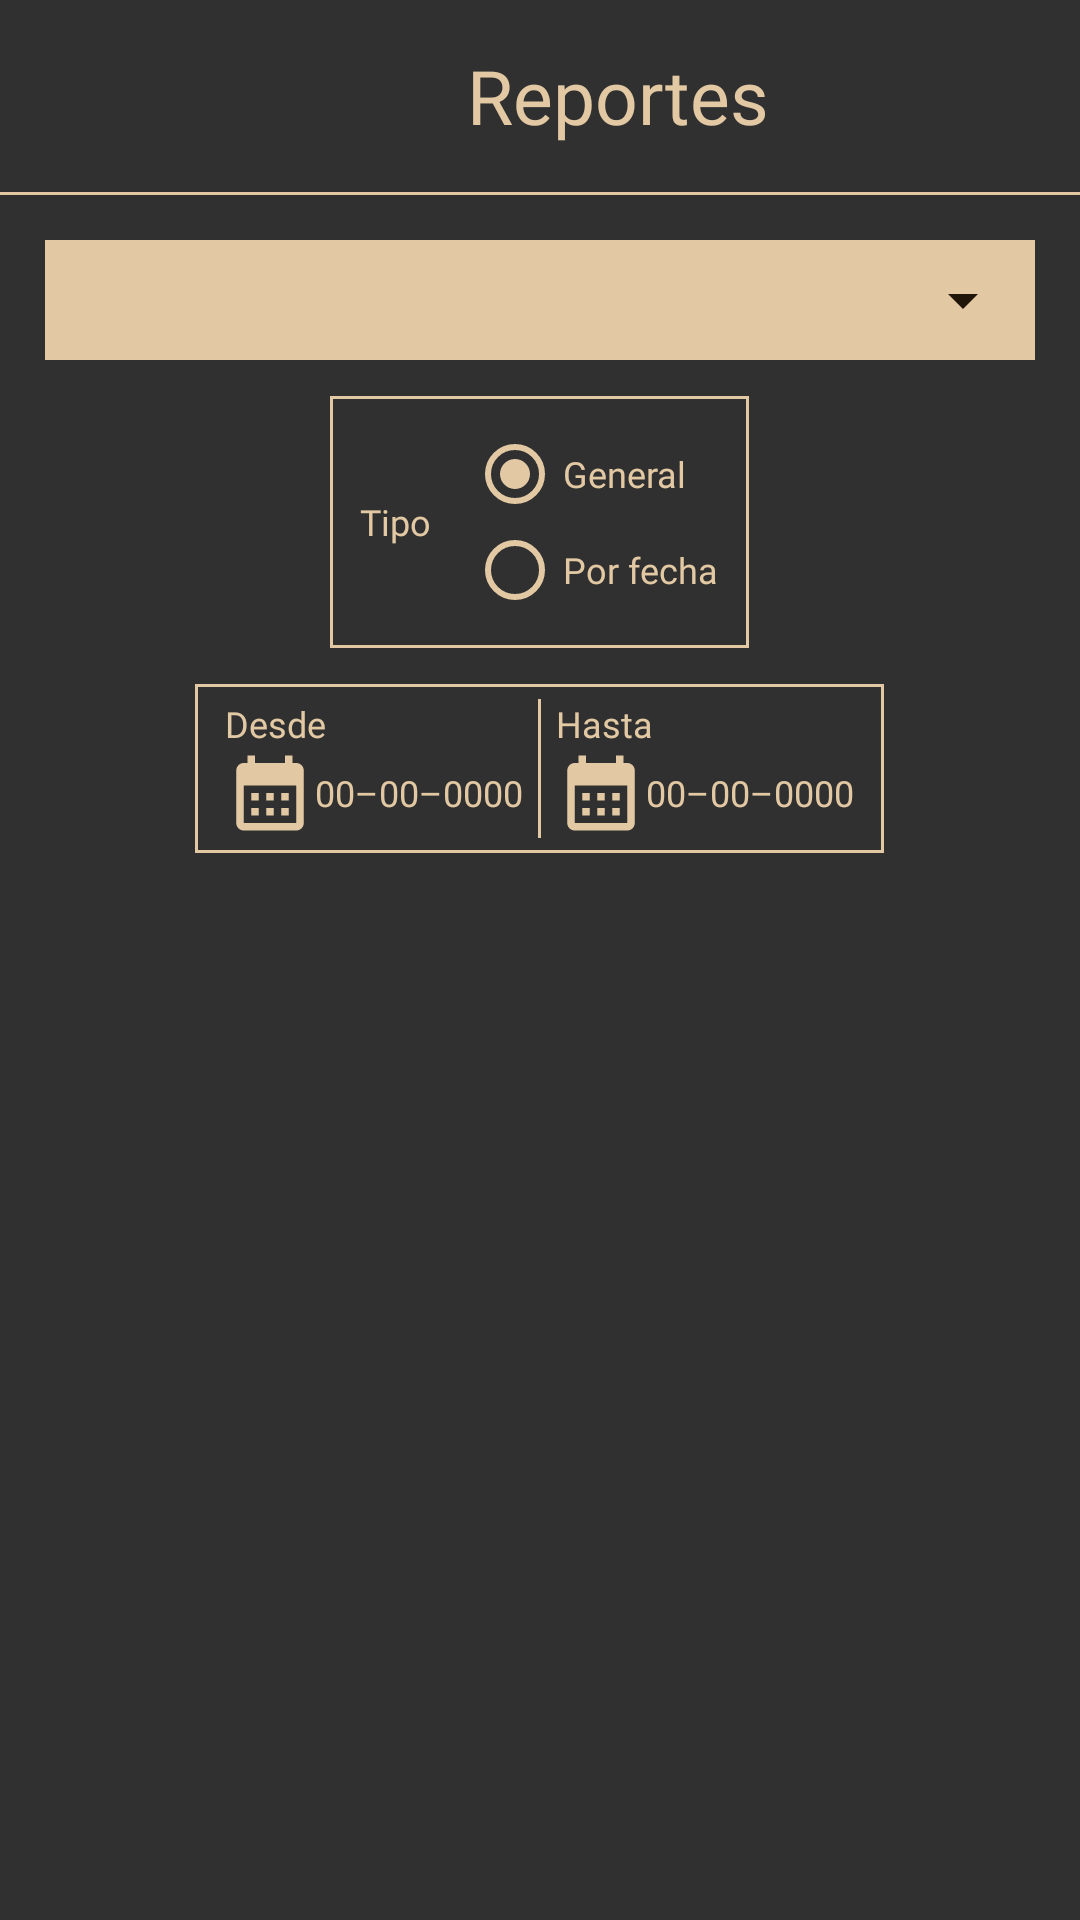

Screen size 1080x1920. Icon name, then its center in pixels as point (x, y):
calendar: point (270, 793), point (601, 793)
